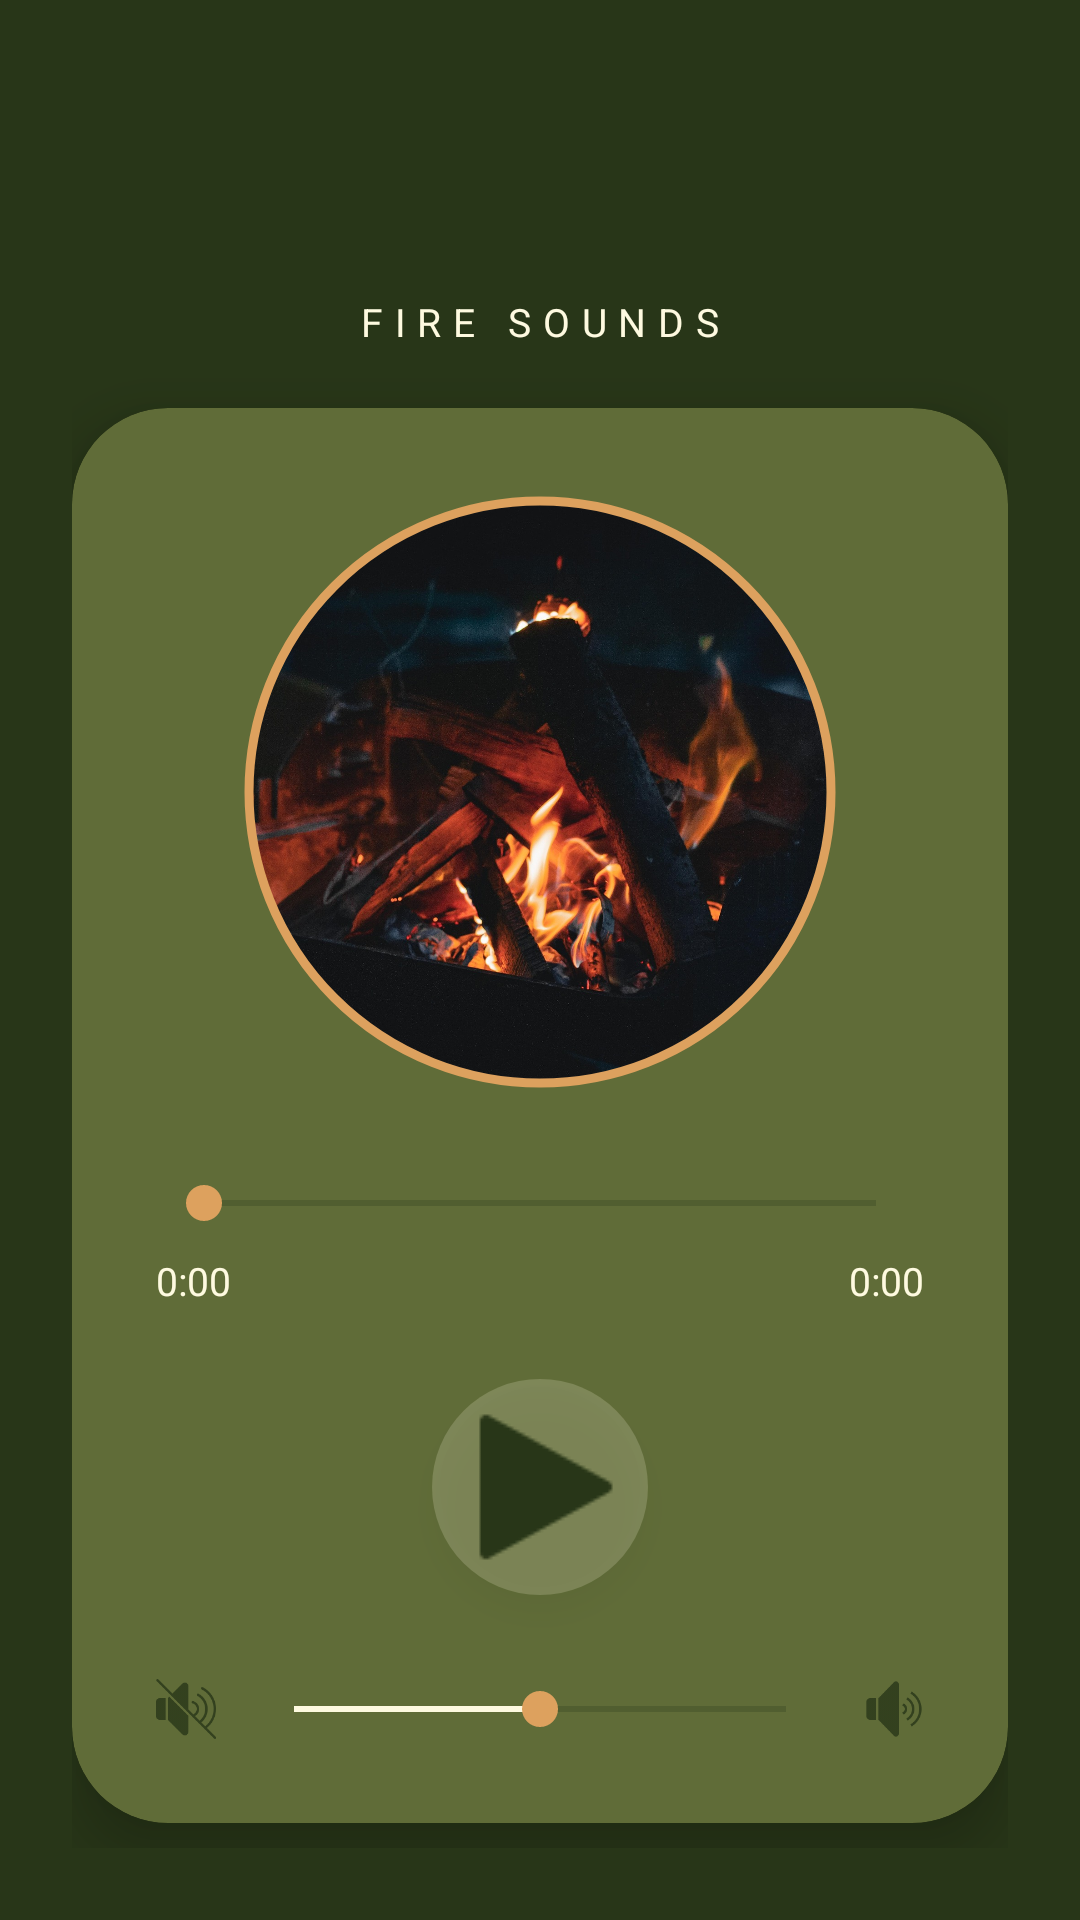

Locate icon controls on the screen. Image size 1080*1920, boxes as region(x1, y1, x2, y2).
play: region(432, 1379, 648, 1595)
sound: region(156, 1679, 216, 1739), region(866, 1681, 922, 1737)
